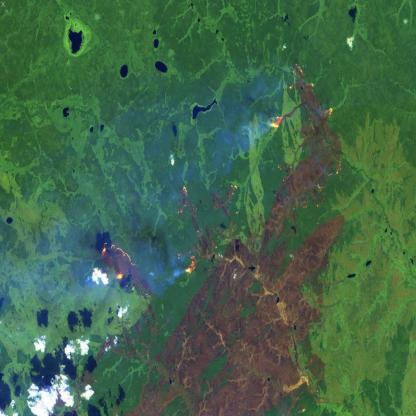fire: (96, 236, 138, 300), (173, 182, 194, 220), (266, 110, 288, 138), (183, 250, 201, 284), (321, 100, 336, 123)
